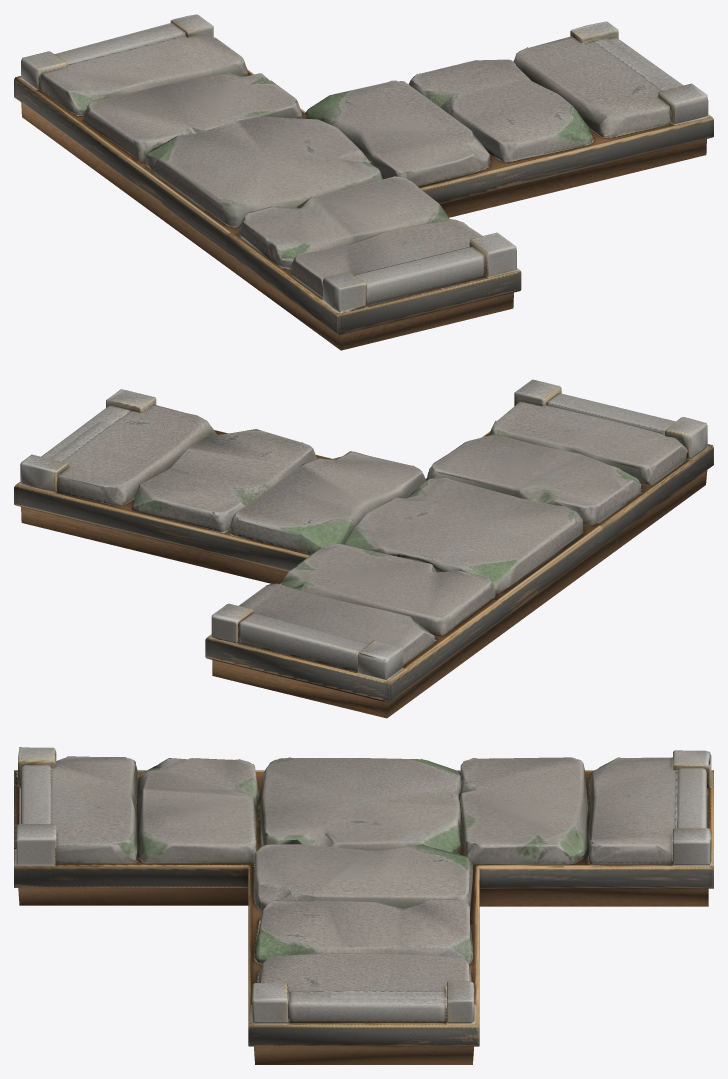
Rendered from tripo_convert_4cc7a3a2-a0f0-4d22-ba9b-2f099fd626b5.fbx.
3 renders of one model, top to bottom at view 1: azimuth 30°, elevation 25°; view 2: azimuth 150°, elevation 25°; view 3: azimuth 270°, elevation 25°, orthographic. The views are drawn at different scales.
Parts seen in each view (by area): view 1: tripo_node_4cc7a3a2; view 2: tripo_node_4cc7a3a2; view 3: tripo_node_4cc7a3a2.
Boxes of the visible parts, <box> form: tripo_node_4cc7a3a2: <box>14,14,713,350</box>; tripo_node_4cc7a3a2: <box>14,379,713,718</box>; tripo_node_4cc7a3a2: <box>14,747,713,1064</box>.
Bounding box in the file's own units: 0.8613 × 0.1074 × 0.998.
1 material, 1 textured.
